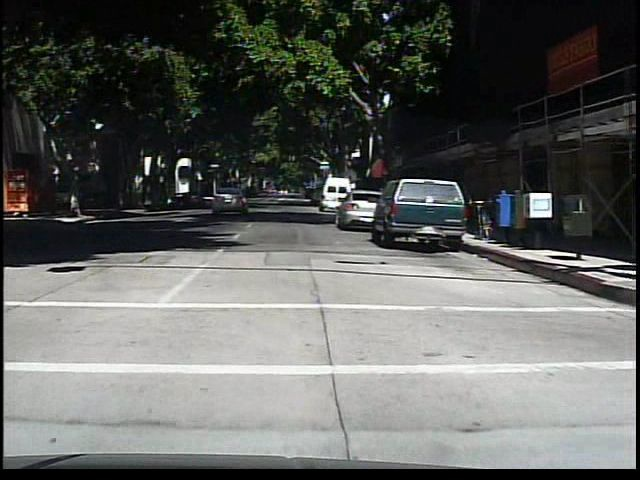person: (63, 180, 79, 219), (294, 180, 309, 206)
